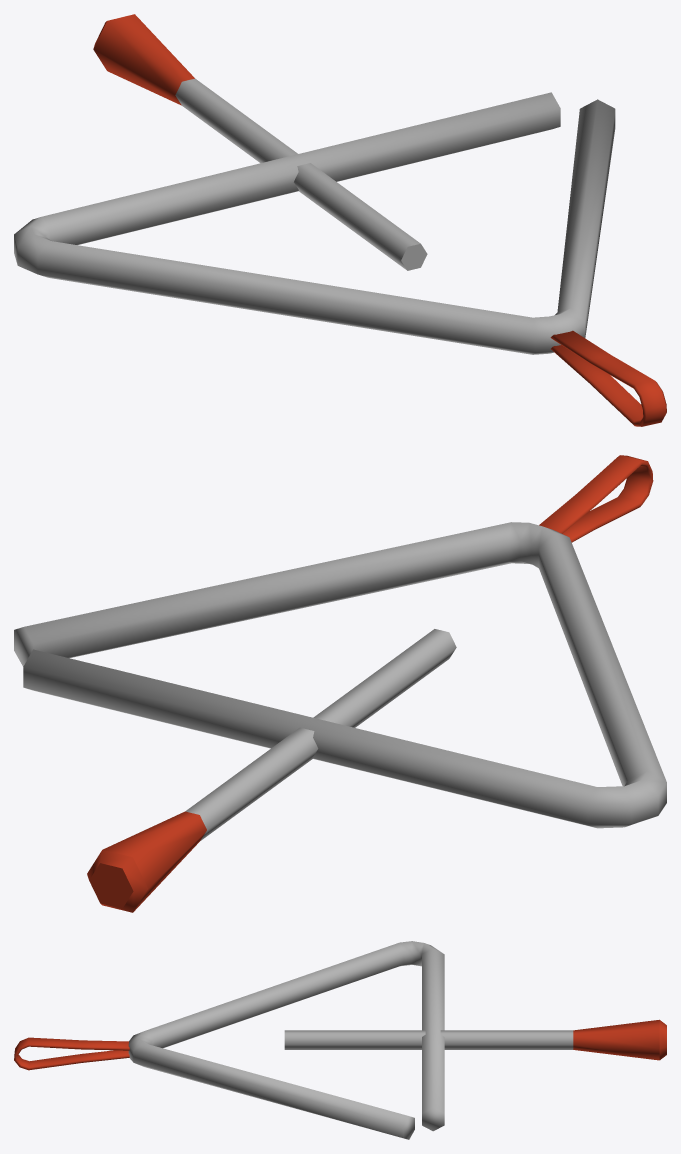
The model's file is MusicalTriangle_01.fbx.
3 renders of one model, top to bottom at view 1: azimuth 30°, elevation 25°; view 2: azimuth 150°, elevation 25°; view 3: azimuth 270°, elevation 25°, orthographic. The views are drawn at different scales.
Parts seen in each view (by area): view 1: MusicalTriangle_01, MusicalTriangleBeater_01; view 2: MusicalTriangle_01, MusicalTriangleBeater_01; view 3: MusicalTriangle_01, MusicalTriangleBeater_01.
Part boxes in pixels (<box>): MusicalTriangle_01: <box>14,92,666,426</box>; MusicalTriangleBeater_01: <box>93,14,427,270</box>; MusicalTriangle_01: <box>14,455,666,828</box>; MusicalTriangleBeater_01: <box>87,629,456,912</box>; MusicalTriangle_01: <box>14,941,444,1139</box>; MusicalTriangleBeater_01: <box>284,1019,666,1060</box>.
Bounding box in the file's own units: 0.2049 × 0.0176 × 0.3071.
